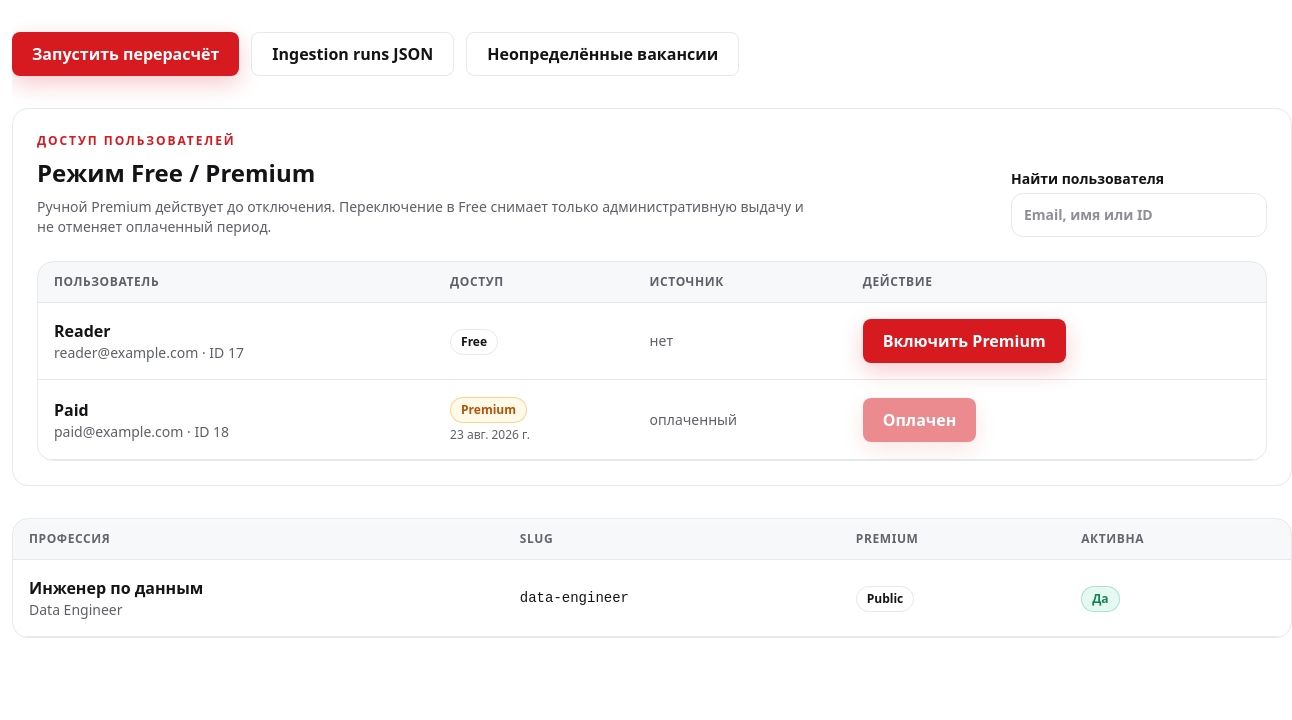
it: analytics components › switches a manual user grant and keeps paid access visibly protected
The image size is (1292, 720).
Expected: the button "Оплачен" is disabled, [863,398,976,442]
Click the button "Включить Premium".
click(964, 341)  # box [863,319,1066,363]
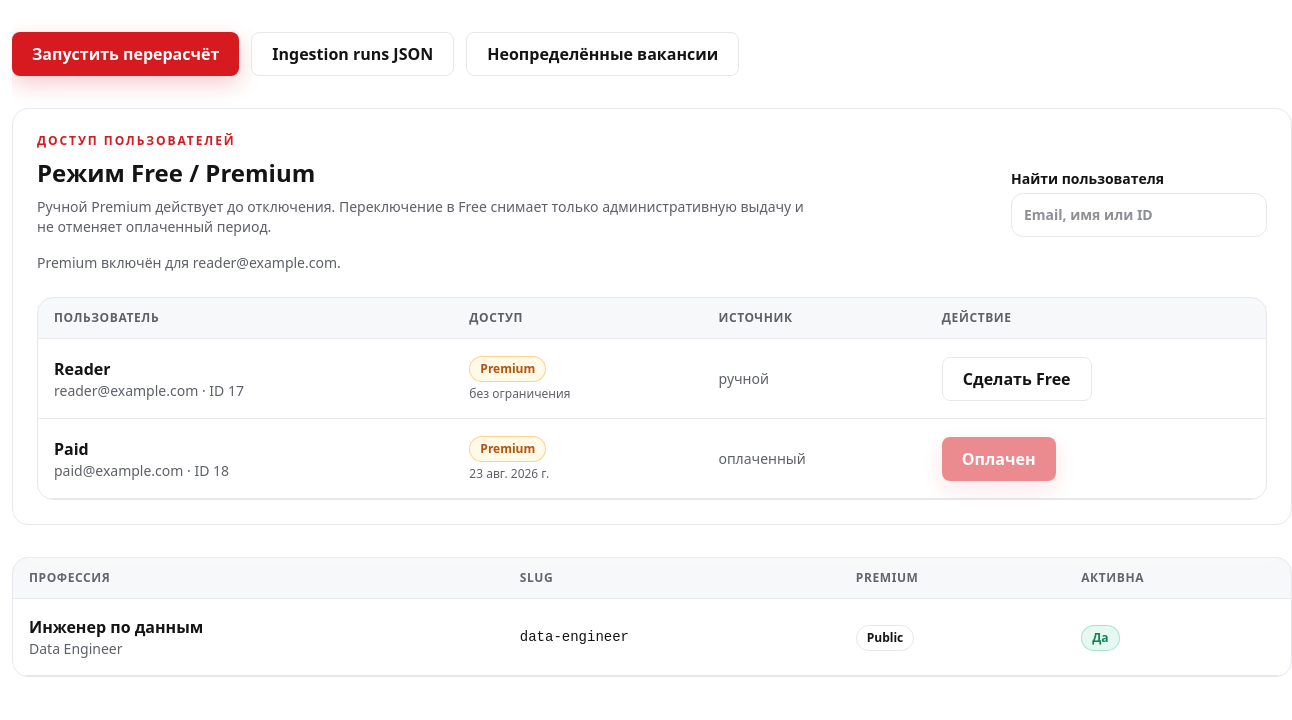
Expected: the button "Сделать Free" is shown, [942,356,1092,400]
Expected: the text "Premium включён для reader@example.com." is shown, [37,253,341,272]
